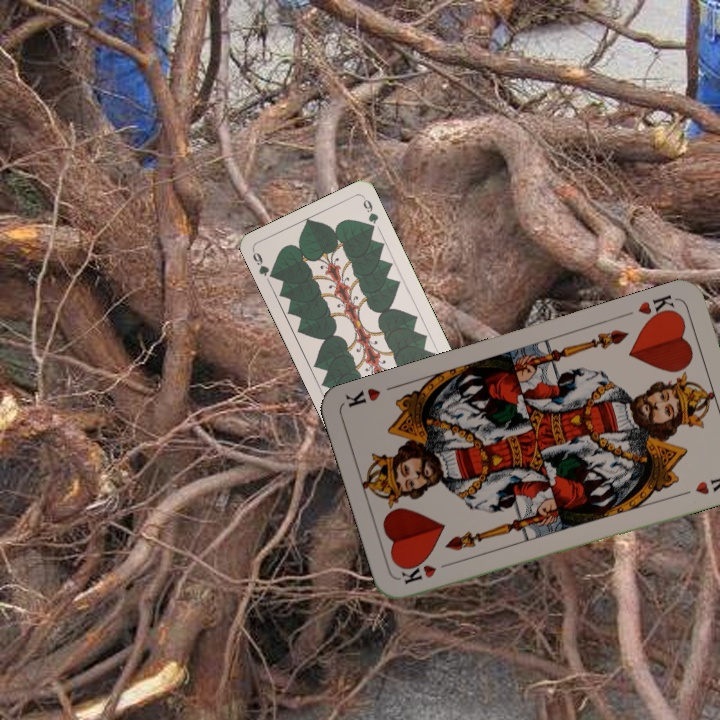G9: (249, 247, 278, 282)
HK: (397, 558, 456, 587), (634, 290, 680, 325)
